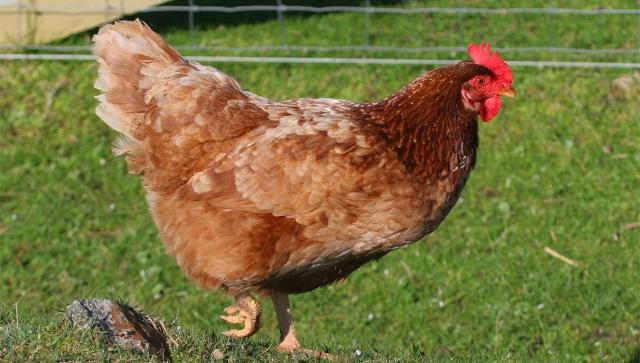Chicken: (89, 17, 515, 359)
